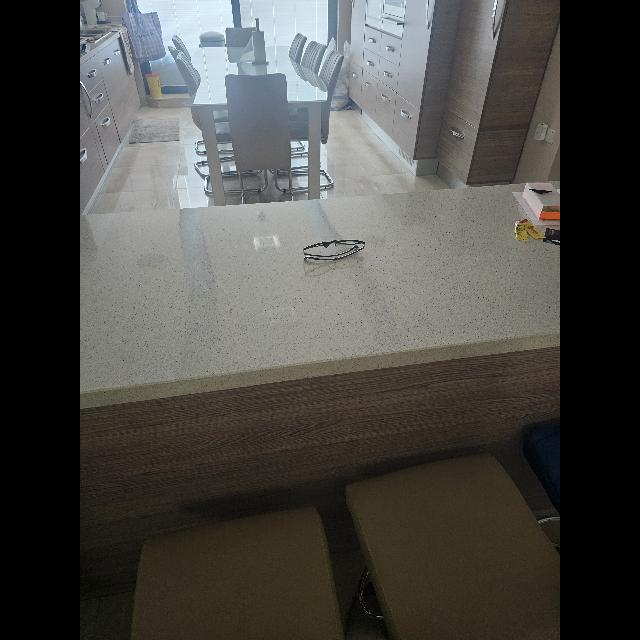glasses: (303, 240, 365, 260)
